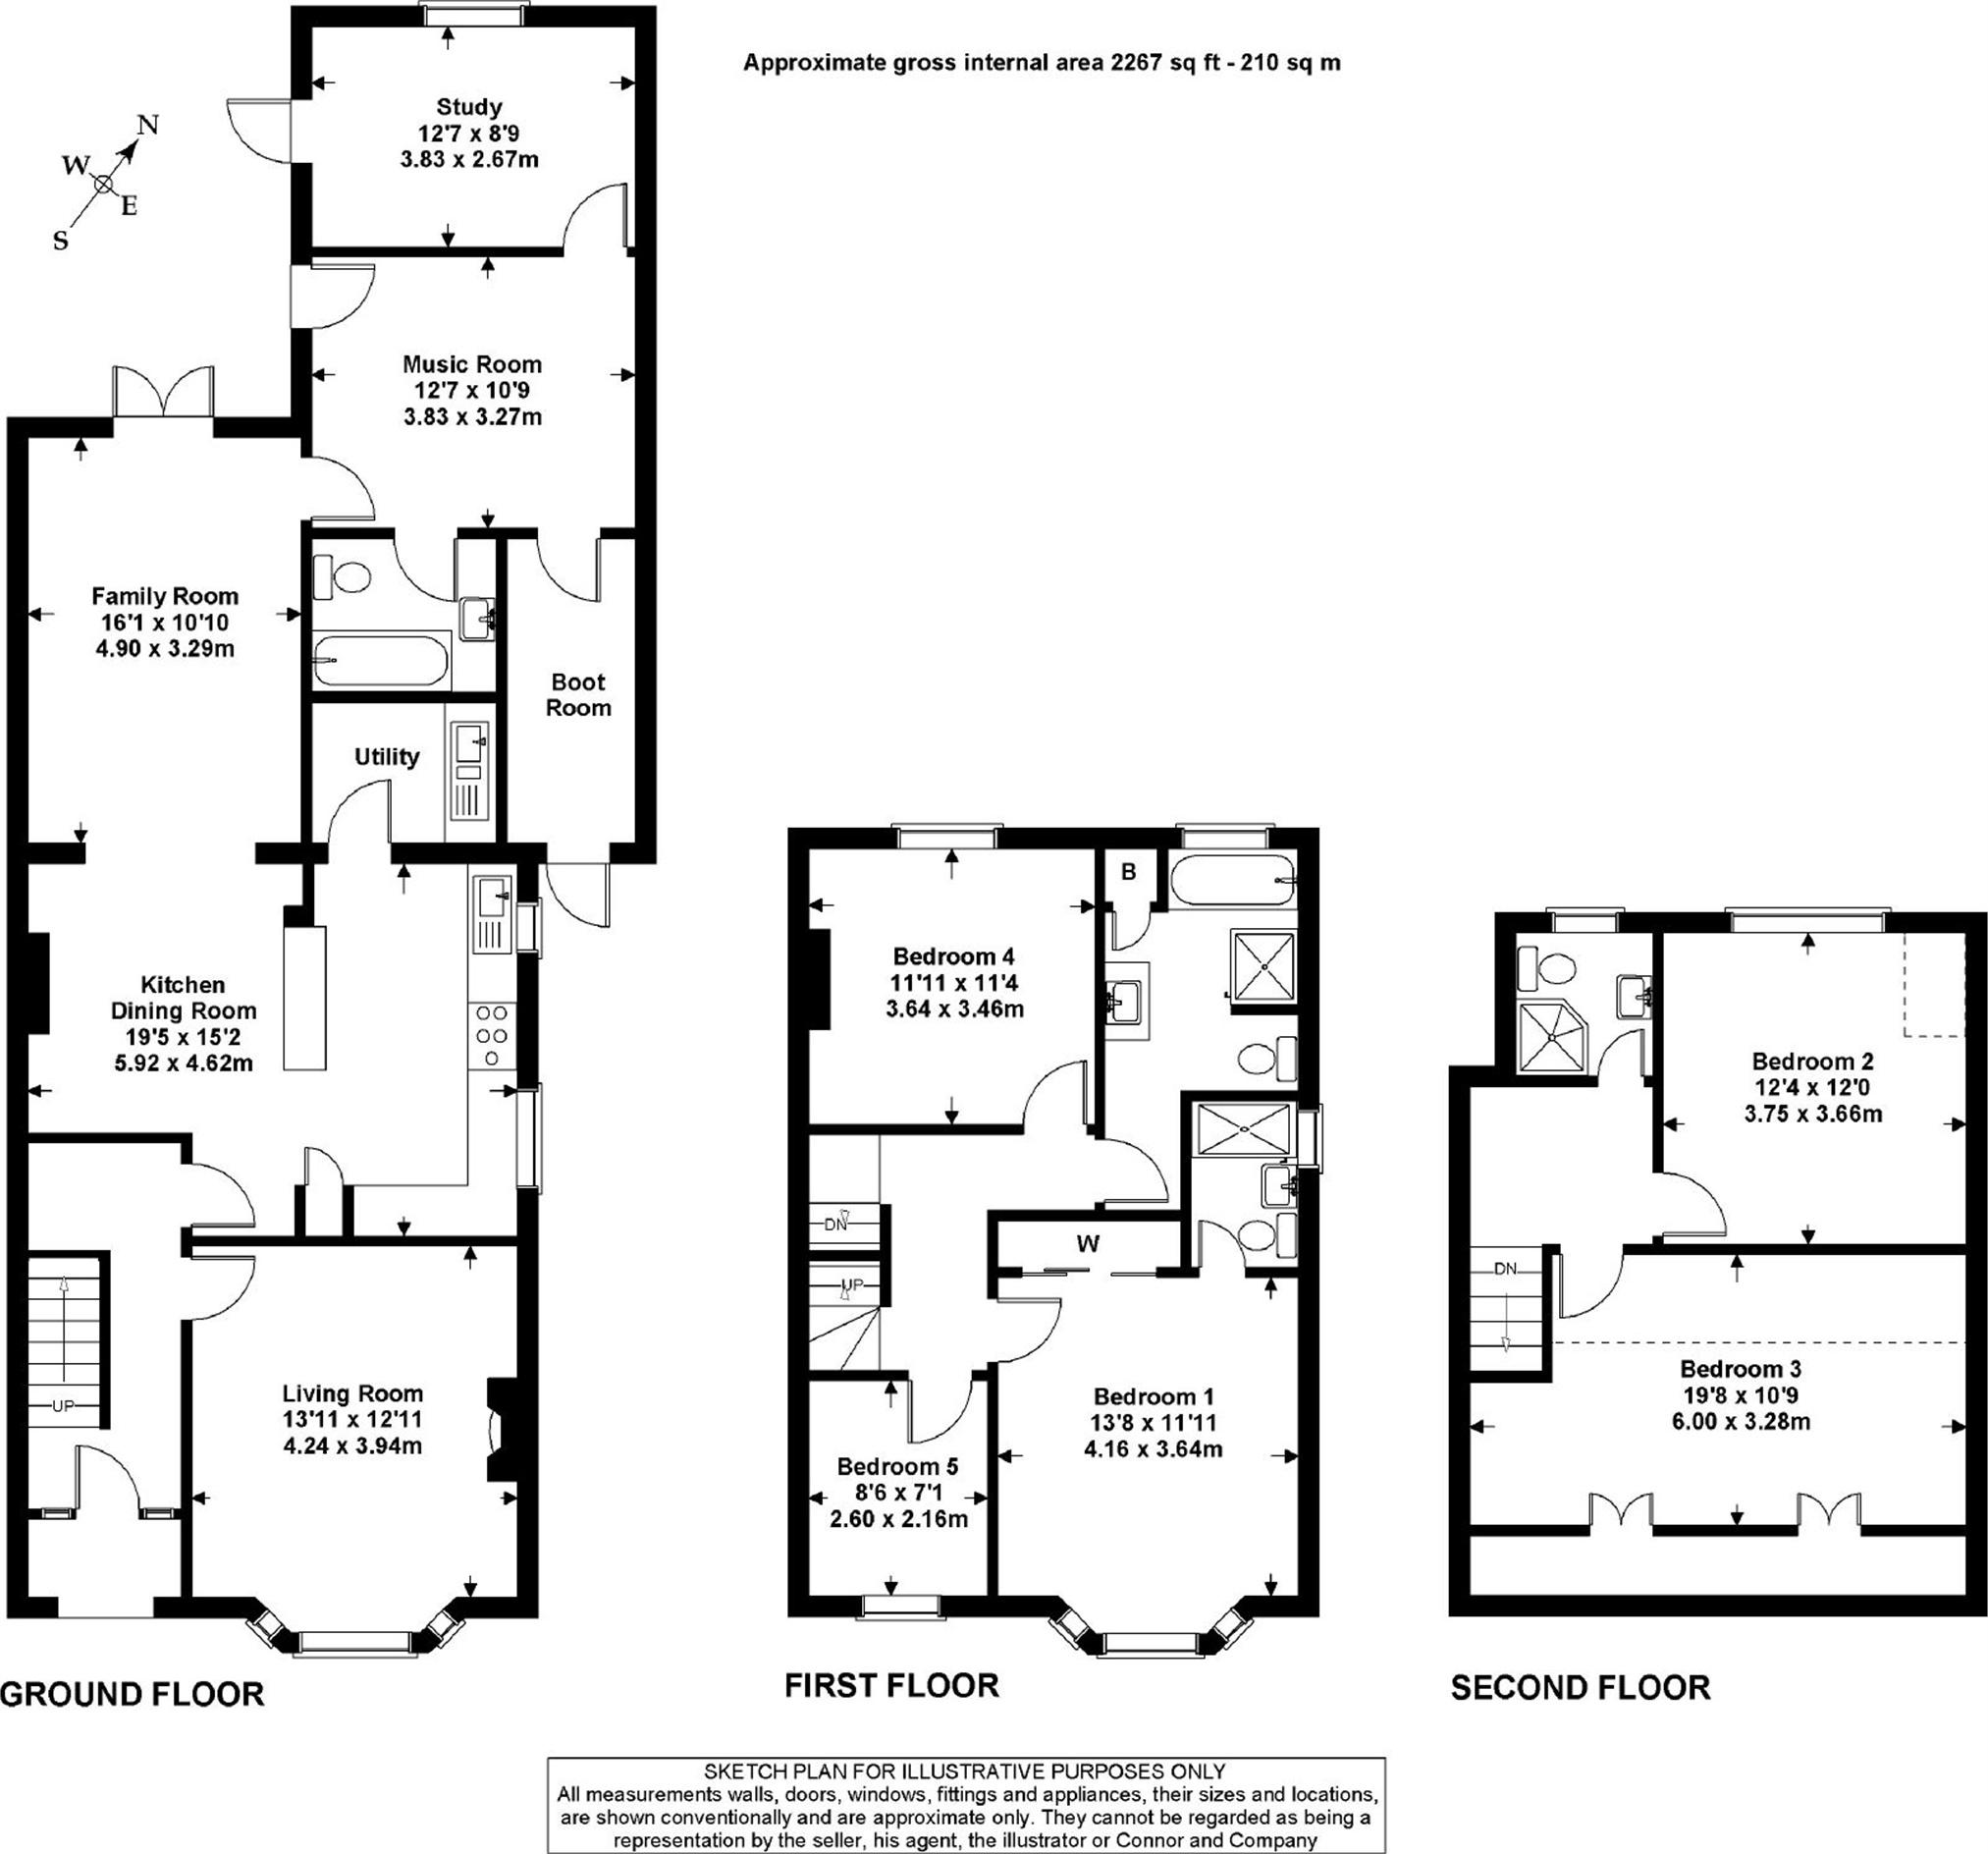room: (1460, 1246, 1976, 1621), (293, 5, 652, 537), (986, 1206, 1317, 1619), (9, 420, 310, 863), (183, 1239, 524, 1621), (1653, 915, 1988, 1255), (298, 535, 652, 856), (795, 833, 1101, 1134), (12, 845, 315, 1147), (1096, 826, 1317, 1101), (793, 1370, 1000, 1614)
